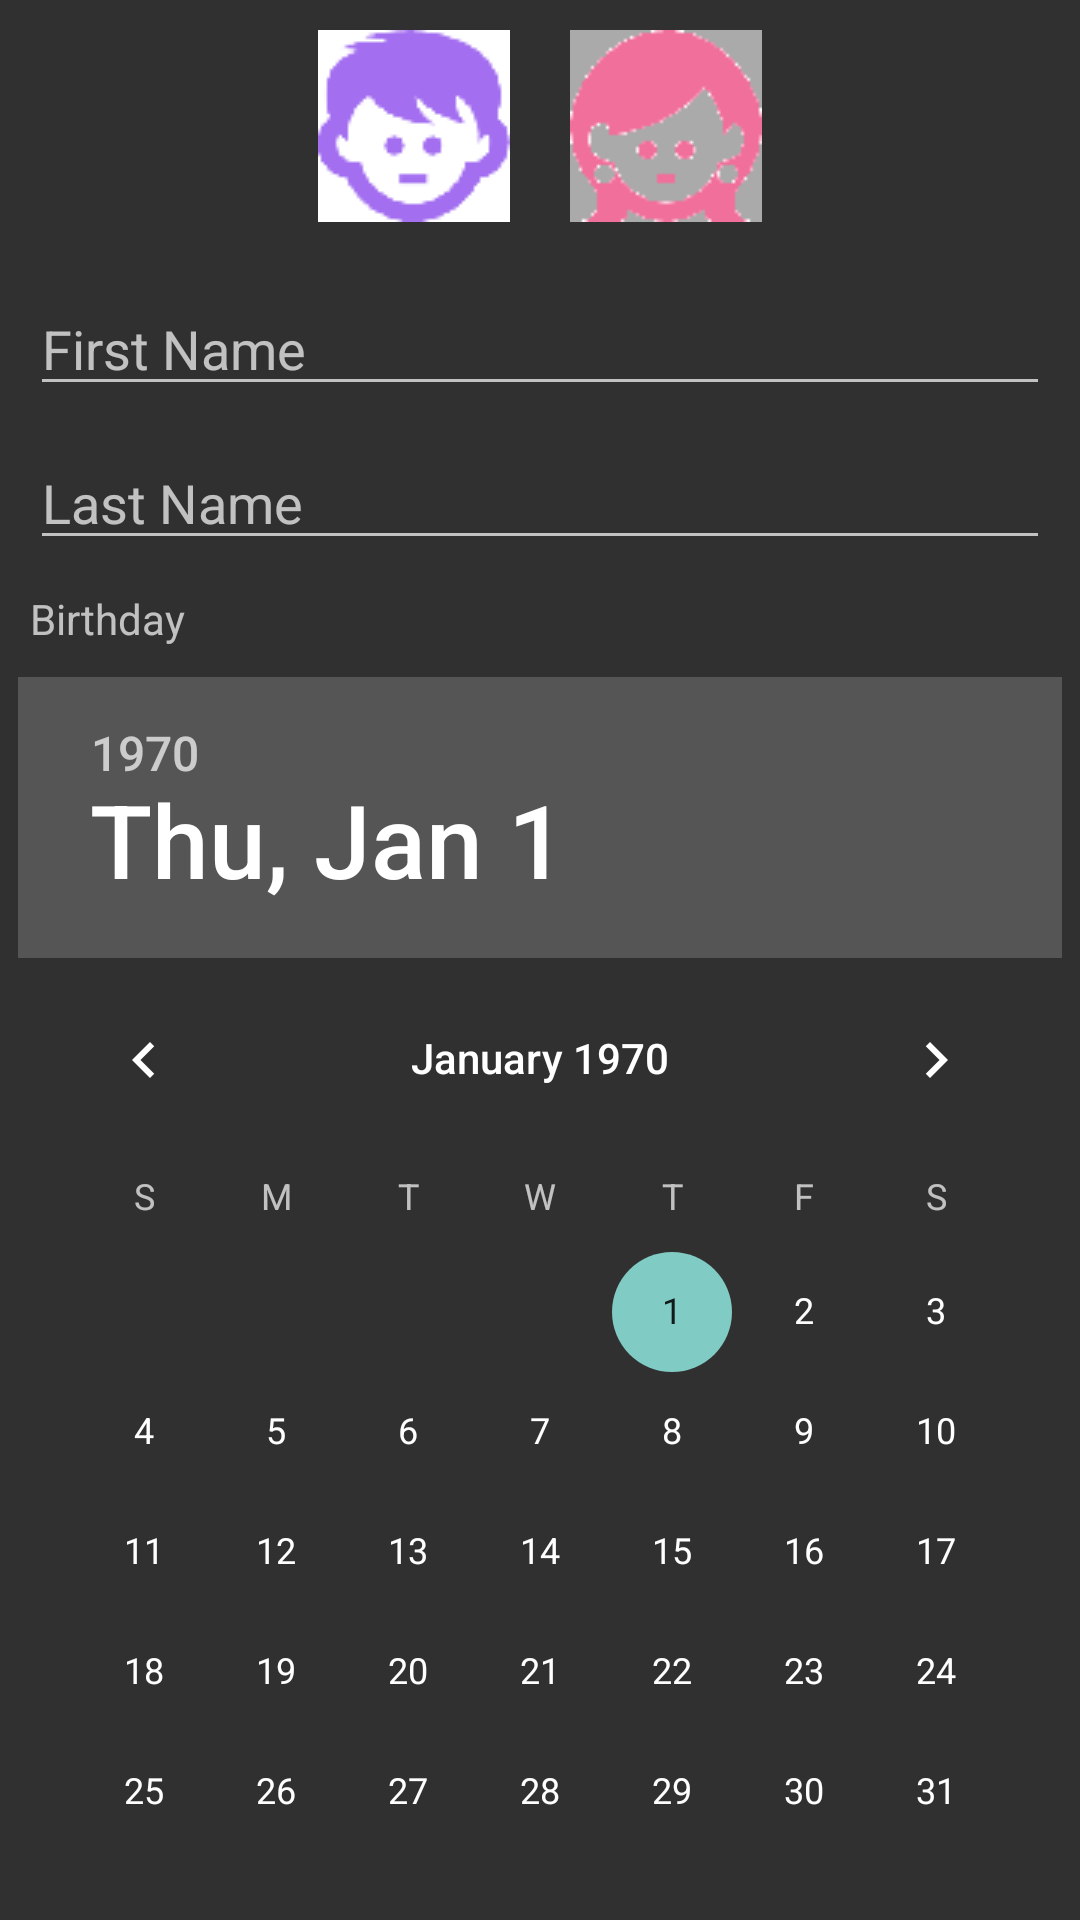

Locate icon controls on the screen. Image size 1080px×1920px, boxes as BBox(x1, y1, x2, y2).
female: BBox(570, 30, 762, 222)
male: BBox(318, 30, 510, 222)
